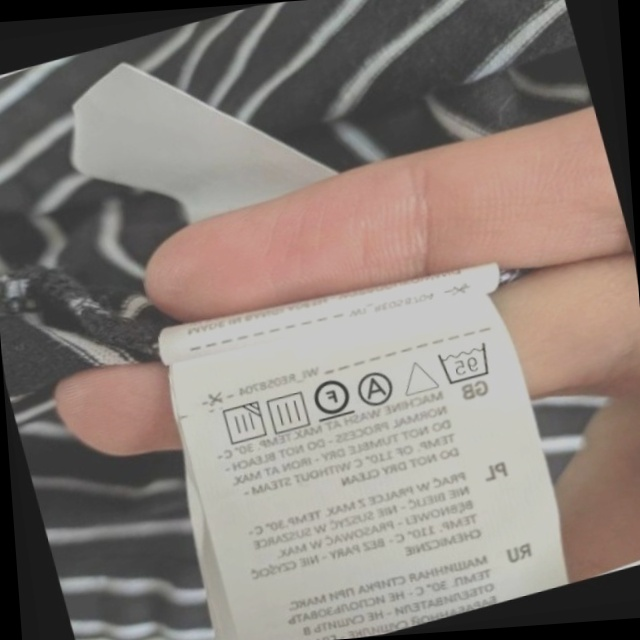95C: (432, 337, 496, 389)
bleach: (397, 352, 441, 401)
drip_dry: (261, 386, 314, 437)
drip_dry_in_shade: (215, 397, 269, 451)
dry_clean: (353, 366, 400, 411)
dry_clean_petrol_only: (307, 371, 356, 425)
